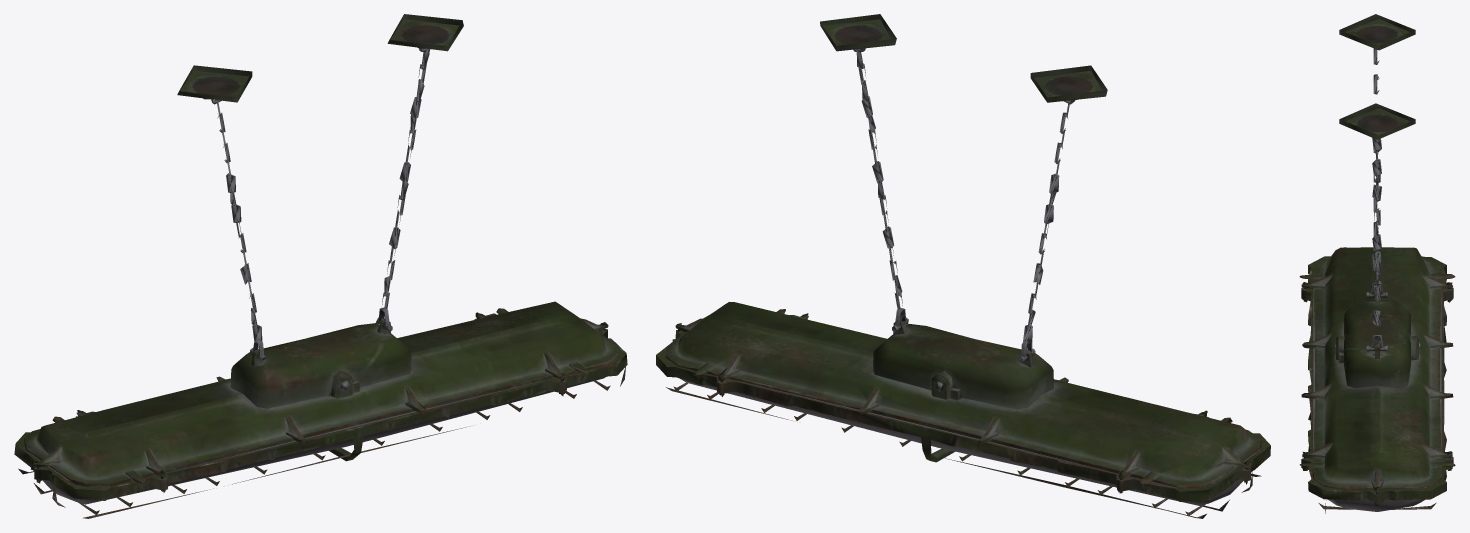
Rendered from caged_hanging_light.glb.
3 views of the same model, side by side, from view 1: azimuth 30°, elevation 25°; view 2: azimuth 150°, elevation 25°; view 3: azimuth 270°, elevation 25° (orthographic). The views are drawn at different scales.
Parts seen in each view (by area): view 1: caged_hanging_light; view 2: caged_hanging_light; view 3: caged_hanging_light.
Part boxes in pixels (x1,y1,x2,y2): caged_hanging_light: (14,14,627,518); caged_hanging_light: (656,14,1270,518); caged_hanging_light: (1299,14,1455,513).
Bounding box in the file's own units: 1.16 × 0.7501 × 0.3149.
Materials: 1 (1 with a texture image).
